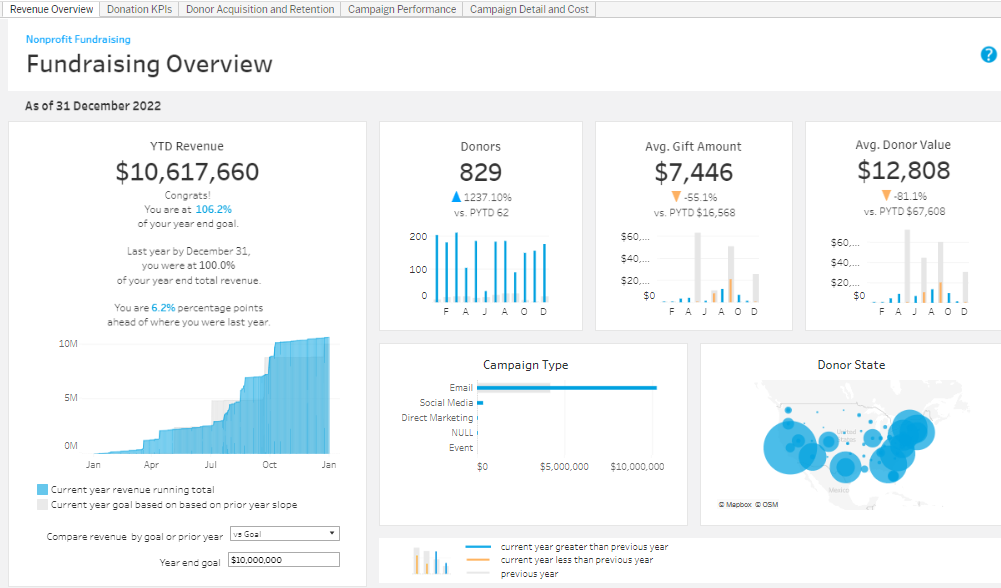

Layout of this report page (visuals, bound fields, positions):
{"tool":"tableau","page":{"name":"Revenue Overview","canvas":[1366,768],"ordinal":4},"visuals":[{"type":"worksheet","title":"Title","mark":"Automatic","box":[16,0,1334,97]},{"type":"worksheet","title":"Info Revenue","mark":"Shape","box":[1301,26,44,41]},{"type":"worksheet","title":"As Of Revenue Overview","mark":"Automatic","box":[0,97,1366,32]},{"type":"worksheet","title":"Donor Count YTD vs Last Year KPI","mark":"Text","box":[521,148,250,128]},{"type":"worksheet","title":"Avg Gift Amount YTD vs Last Year KPI","mark":"Text","box":[809,148,242,128]},{"type":"worksheet","title":"Donor Value YTD vs Last Year KPI","mark":"Text","box":[1089,148,242,123.9]},{"type":"worksheet","title":"Revenue Vs. Goal Text","mark":"Automatic","rows":["Calculation_132504353323839497"],"box":[47,158,415.8,244]},{"type":"worksheet","title":"Donor Value YTD vs Last Year by Month (3)","mark":"Bar","rows":["Previous Year Avg Gift Amount (copy)_188869765961416749","Current Year Avg. Gift Amount (copy)_188869765961416747"],"cols":["Close Date"],"box":[1089,271.9,242,133.1]},{"type":"worksheet","title":"Donor Count YTD vs Last Year by Month","mark":"Bar","rows":["Previous Year Donation Count (copy)_188869765961416748","Current Year Donation Count (copy)_188869765961416744"],"cols":["Close Date"],"box":[521,276,250,129]},{"type":"worksheet","title":"Avg Gift Amount YTD vs Last Year by Month","mark":"Bar","rows":["Previous Year Revenue (copy)_188869765878923289","Current Year Revenue (copy)_188869765878923284"],"cols":["Close Date"],"box":[809,276,242,129]},{"type":"worksheet","title":"Revenue Vs. Goal by Day","mark":"Area","cols":["Calculation_132504353379106832"],"box":[47,402,415.8,211]},{"type":"worksheet","title":"Revenue YTD vs Last Year by Campaign Type","mark":"Bar","rows":["Campaign Type"],"cols":["Current Year Amount (copy)_4861706222326198277","Calculation_4861706222325940228"],"box":[509.8,424.4,420.1,259.9]},{"type":"worksheet","title":"Revenue YTD by State","mark":"Automatic","box":[929.9,424.4,420.1,259.9]},{"type":"legend","title":"Revenue Vs. Goal by Day","param":"[federated.1br55pm1dvll6r1br6zl31qfev3c (copy 2)].[:Measure Names]","box":[47,613,415.8,48]},{"type":"worksheet","title":"Revenue YTD vs Last Year KPI","mark":"Text","rows":["Calculation_330521999809601542"],"box":[47,661,415.8,1]},{"type":"worksheet","title":"Revenue YTD vs Last Year by Month","mark":"Bar","rows":["Current Year Revenue (copy)_3501126560689803265"],"cols":["Close Date"],"box":[47,662,415.8,1]},{"type":"legend","title":"Revenue YTD vs Last Year by Month","param":"[federated.1br55pm1dvll6r1br6zl31qfev3c (copy 2)].[none:Calculation_150138753283","box":[47,663,415.8,9]},{"type":"text","box":[47,672,260,35]},{"type":"parameter","param":"[Parameters].[Parameter 5]","box":[307,672,155.8,35]},{"type":"image","param":"Image/legend 1.png","box":[519.7,692.3,91,59.7]},{"type":"text","box":[672.8,692.3,657.3,59.7]},{"type":"image","param":"Image/Current Year Up.png","box":[610.8,696.3,62,17.2]},{"type":"text","box":[47,707,256.7,35]},{"type":"parameter","param":"[Parameters].[Parameter 3]","box":[303.7,707,159,35]},{"type":"image","param":"Image/Current Year Down.png","box":[610.8,713.5,62,17.2]},{"type":"image","param":"Image/Previous Year.png","box":[610.8,730.8,62,17.2]}]}

Visuals, with their boxes on the page's 1366x768 design canvas (x1, y1, x2, y2). These are canvas units, not pixel positions in the 1001x588 screenshot, which may show the page scaled, cropped or inside an application window:
"Title" worksheet: {"left": 16, "top": 0, "right": 1350, "bottom": 97}
"Info Revenue" worksheet (Shape marks): {"left": 1301, "top": 26, "right": 1345, "bottom": 67}
"As Of Revenue Overview" worksheet: {"left": 0, "top": 97, "right": 1366, "bottom": 129}
"Donor Count YTD vs Last Year KPI" worksheet (Text marks): {"left": 521, "top": 148, "right": 771, "bottom": 276}
"Avg Gift Amount YTD vs Last Year KPI" worksheet (Text marks): {"left": 809, "top": 148, "right": 1051, "bottom": 276}
"Donor Value YTD vs Last Year KPI" worksheet (Text marks): {"left": 1089, "top": 148, "right": 1331, "bottom": 272}
"Revenue Vs. Goal Text" worksheet: {"left": 47, "top": 158, "right": 463, "bottom": 402}
"Donor Value YTD vs Last Year by Month (3)" worksheet (Bar marks): {"left": 1089, "top": 272, "right": 1331, "bottom": 405}
"Donor Count YTD vs Last Year by Month" worksheet (Bar marks): {"left": 521, "top": 276, "right": 771, "bottom": 405}
"Avg Gift Amount YTD vs Last Year by Month" worksheet (Bar marks): {"left": 809, "top": 276, "right": 1051, "bottom": 405}
"Revenue Vs. Goal by Day" worksheet (Area marks): {"left": 47, "top": 402, "right": 463, "bottom": 613}
"Revenue YTD vs Last Year by Campaign Type" worksheet (Bar marks): {"left": 510, "top": 424, "right": 930, "bottom": 684}
"Revenue YTD by State" worksheet: {"left": 930, "top": 424, "right": 1350, "bottom": 684}
"Revenue Vs. Goal by Day" legend: {"left": 47, "top": 613, "right": 463, "bottom": 661}
"Revenue YTD vs Last Year KPI" worksheet (Text marks): {"left": 47, "top": 661, "right": 463, "bottom": 662}
"Revenue YTD vs Last Year by Month" worksheet (Bar marks): {"left": 47, "top": 662, "right": 463, "bottom": 663}
"Revenue YTD vs Last Year by Month" legend: {"left": 47, "top": 663, "right": 463, "bottom": 672}
text: {"left": 47, "top": 672, "right": 307, "bottom": 707}
parameter: {"left": 307, "top": 672, "right": 463, "bottom": 707}
image: {"left": 520, "top": 692, "right": 611, "bottom": 752}
text: {"left": 673, "top": 692, "right": 1330, "bottom": 752}
image: {"left": 611, "top": 696, "right": 673, "bottom": 714}
text: {"left": 47, "top": 707, "right": 304, "bottom": 742}
parameter: {"left": 304, "top": 707, "right": 463, "bottom": 742}
image: {"left": 611, "top": 714, "right": 673, "bottom": 731}
image: {"left": 611, "top": 731, "right": 673, "bottom": 748}
